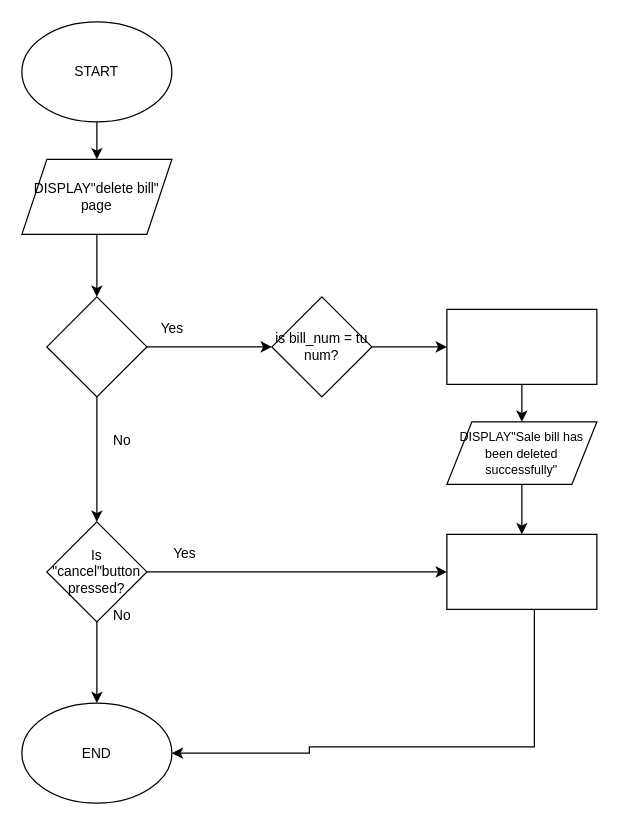
This 619x825 diagram has some shape labels left out. Here are the shapes that lost their labels. From the top down, the centre of each, then its label:
(96,346): is "yes" button pressed?
(521,346): DELETE bill from database
(521,571): REDIRECT to "Sales List" page
